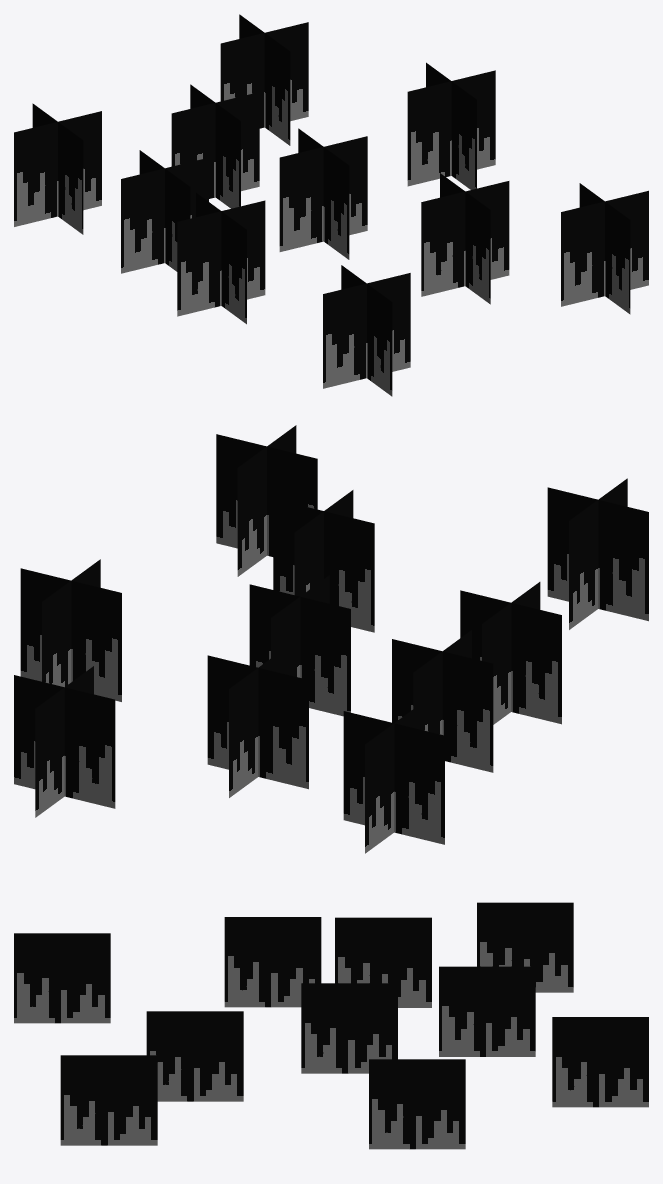
Rendered from grass.dae.
3 renders of one model, top to bottom at view 1: azimuth 30°, elevation 25°; view 2: azimuth 150°, elevation 25°; view 3: azimuth 270°, elevation 25°, orthographic. The views are drawn at different scales.
Parts seen in each view (by area): view 1: grass; view 2: grass; view 3: grass.
Part boxes in pixels (x1=…): grass: x1=14, y1=14, x2=648, y2=396; grass: x1=14, y1=425, x2=648, y2=853; grass: x1=14, y1=902, x2=648, y2=1149.
Bounding box in the file's own units: 1.76 × 2.39 × 0.3757.
1 material, 1 textured.
